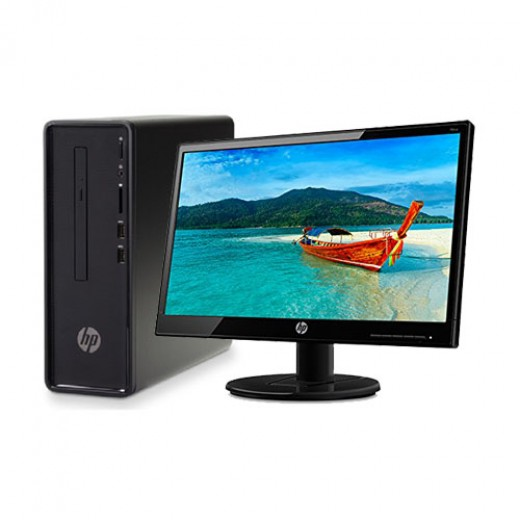hp-monitor-19ka: (154, 121, 479, 400)
